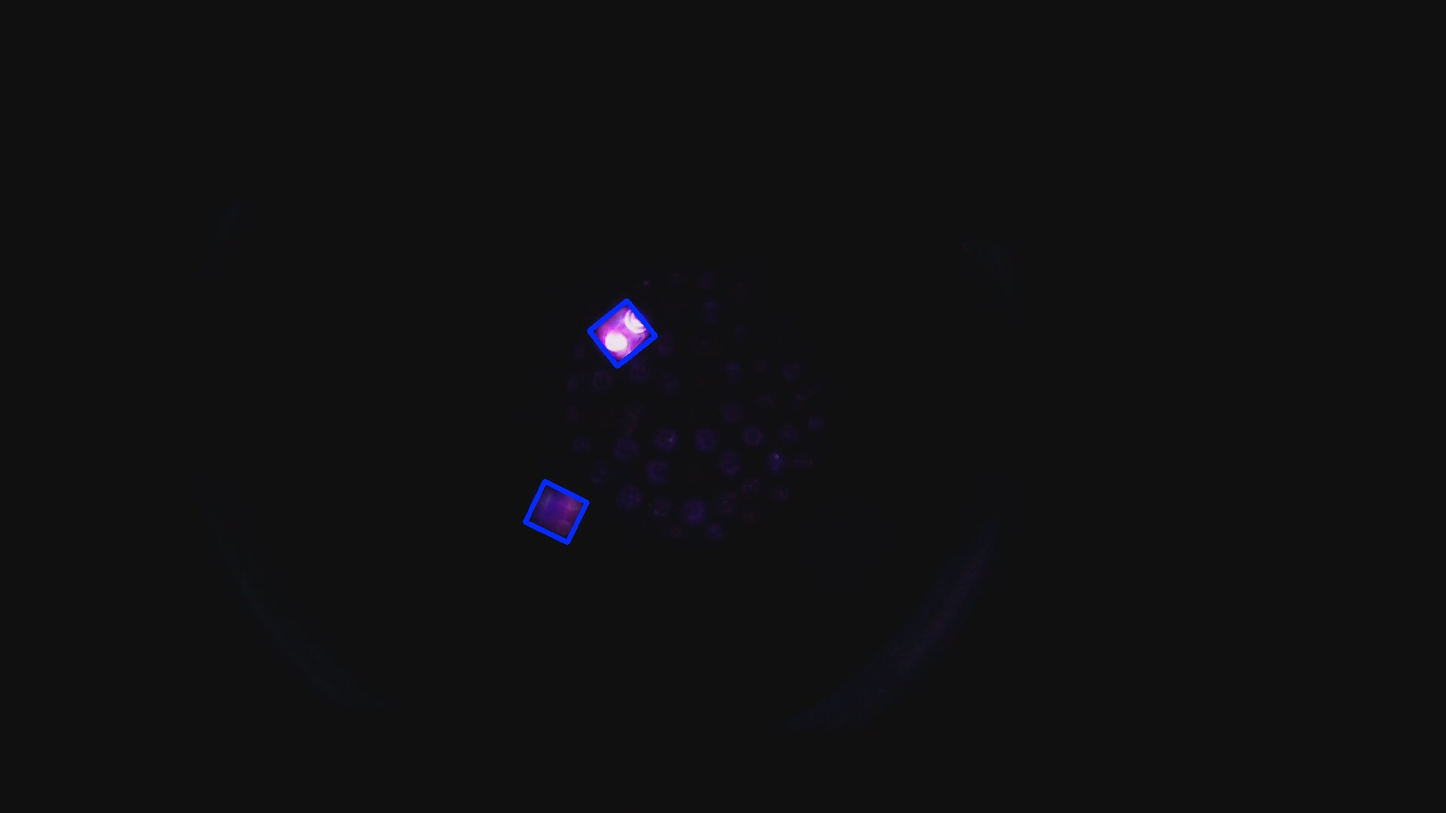plastic: (589, 302, 654, 366), (524, 481, 586, 543)
